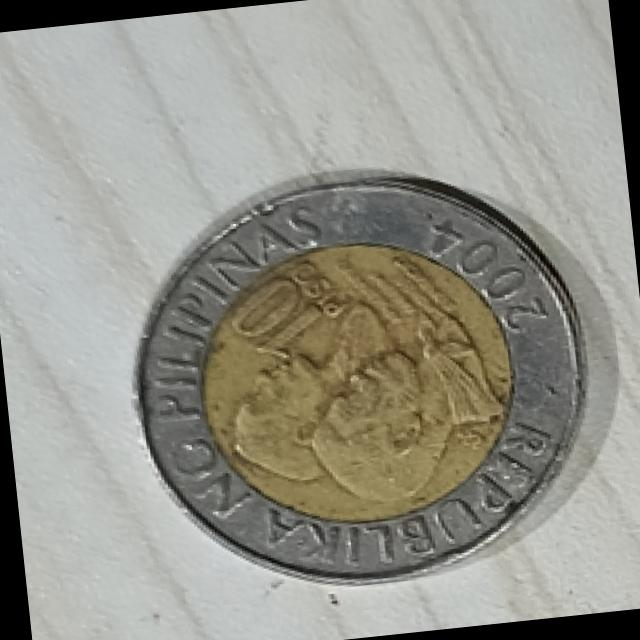10_peso: (136, 179, 583, 581)
